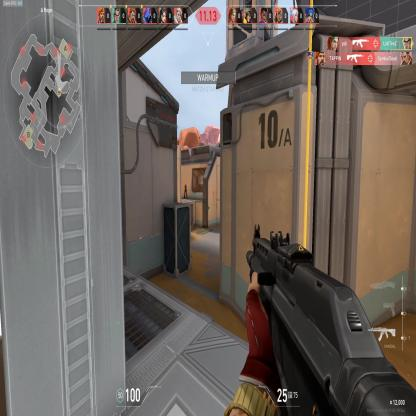enemy: (183, 183, 188, 199)
